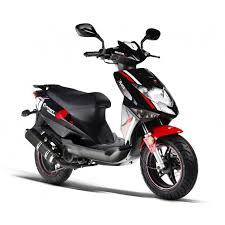motorcycle: (15, 16, 199, 200)
